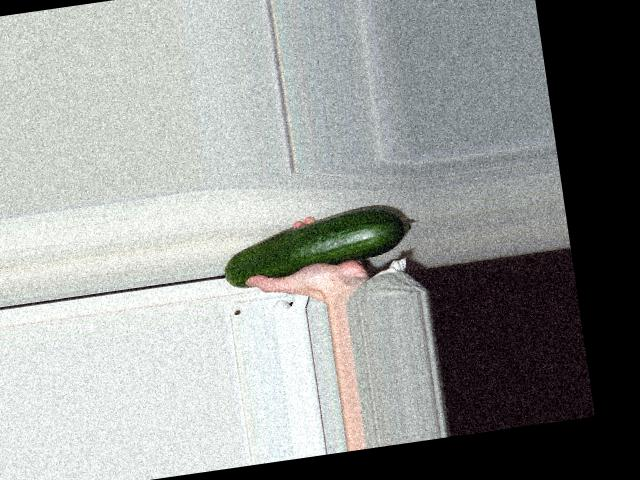cucumber: (218, 200, 416, 289)
